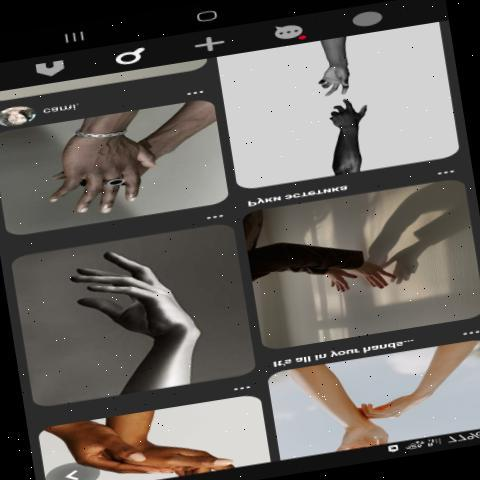Hands: (66, 236, 203, 392), (26, 118, 186, 224), (307, 50, 368, 107), (355, 382, 435, 423), (312, 96, 382, 134), (357, 240, 404, 296), (318, 258, 361, 306)
